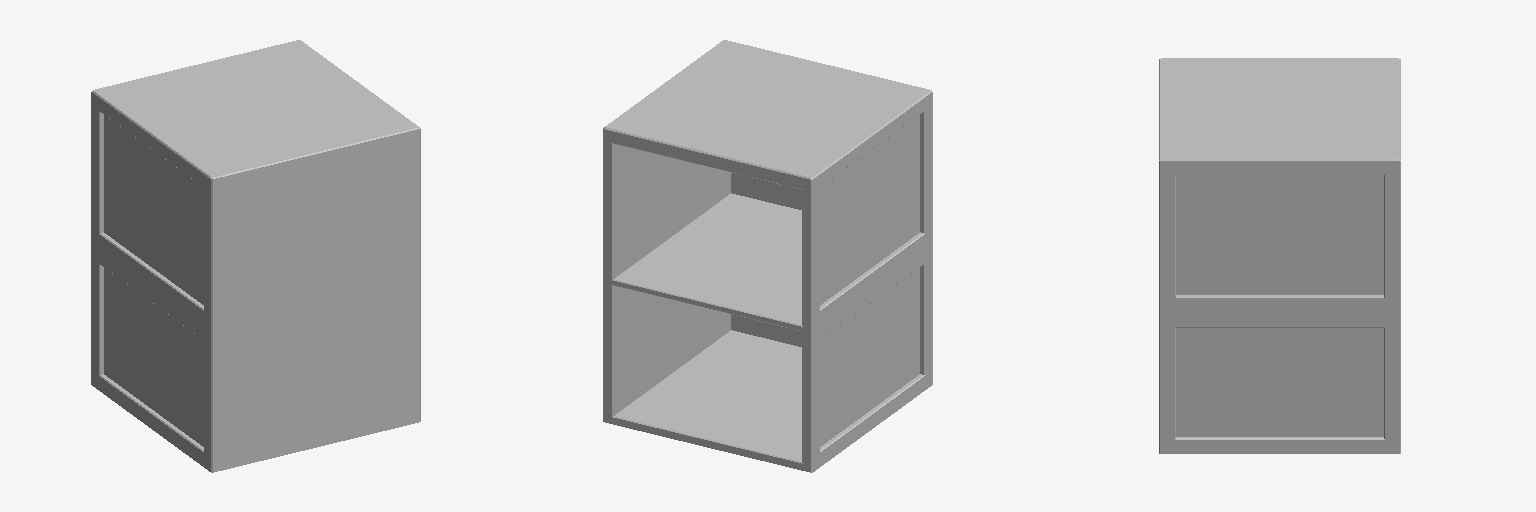
Rendered from SM_FileCabinetSmall_001.obj.
The picture shows the model from 3 angles: view 1: azimuth 30°, elevation 25°; view 2: azimuth 150°, elevation 25°; view 3: azimuth 270°, elevation 25°; orthographic projection.
Parts seen in each view (by area): view 1: pCube63 group14 group33; view 2: pCube63 group14 group33; view 3: pCube63 group14 group33.
Boxes of the visible parts, box(x1,y1,x2,y2) form: pCube63 group14 group33: box(91, 40, 420, 472); pCube63 group14 group33: box(603, 40, 932, 472); pCube63 group14 group33: box(1159, 58, 1400, 453).
Bounding box in the file's own units: 70 × 94.03 × 70.